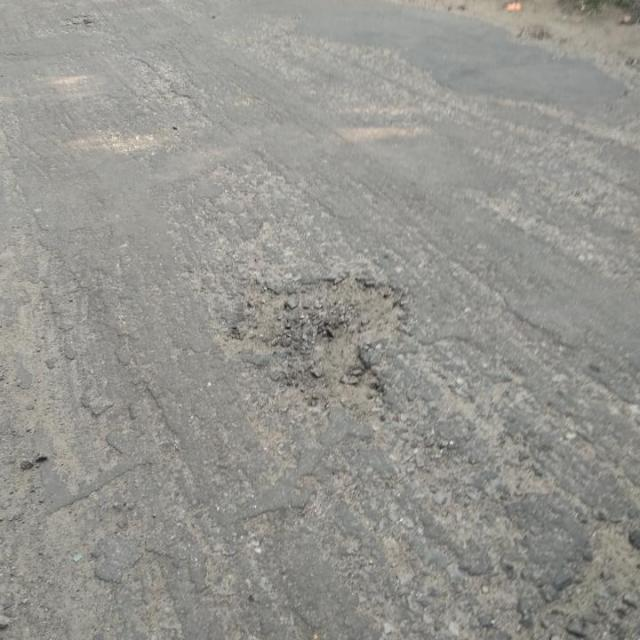pothole: (230, 266, 412, 418)
